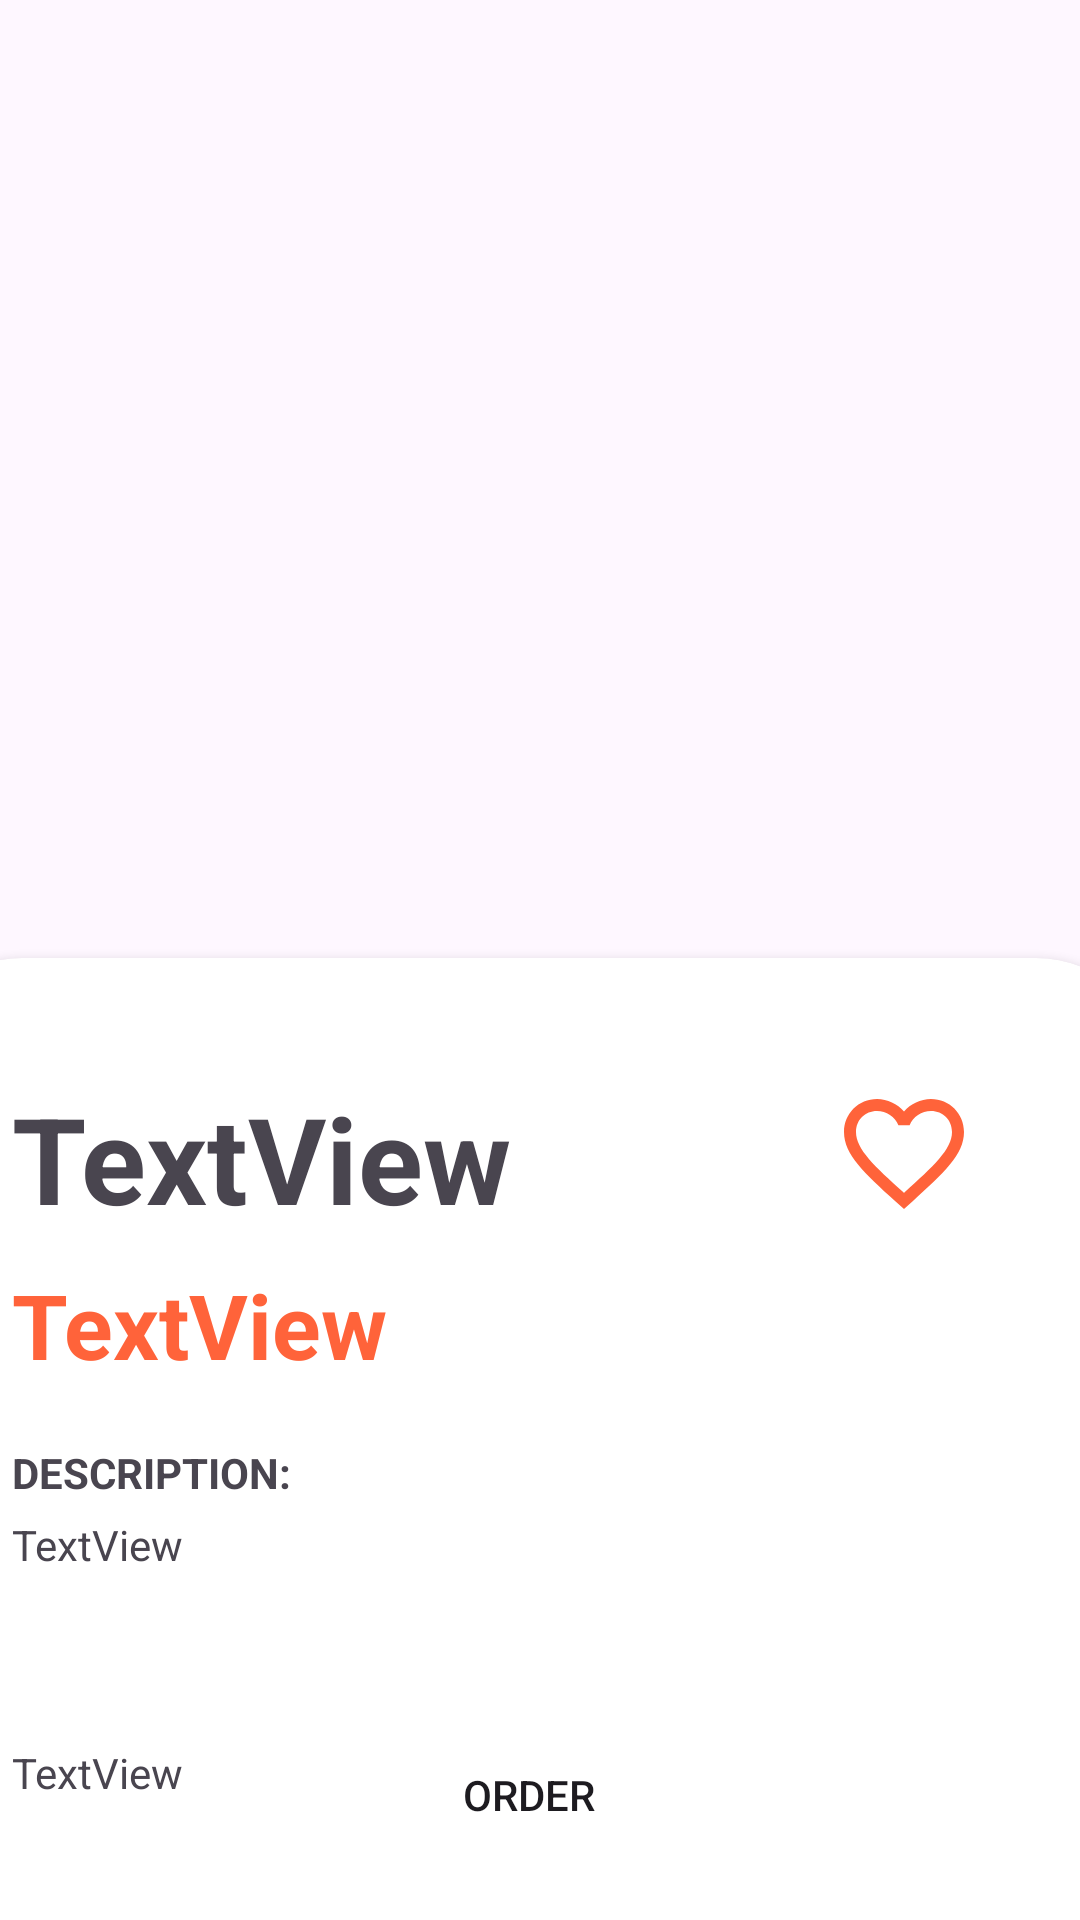

Icon click points for this 1080w x 1920h phone screenshot, format (x=x, y=y):
favorite border: (x=904, y=1154)
